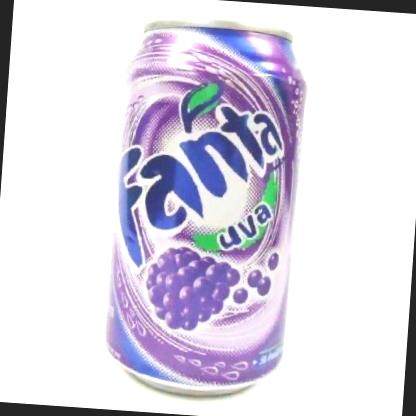alumunium_can: (100, 12, 312, 402)
